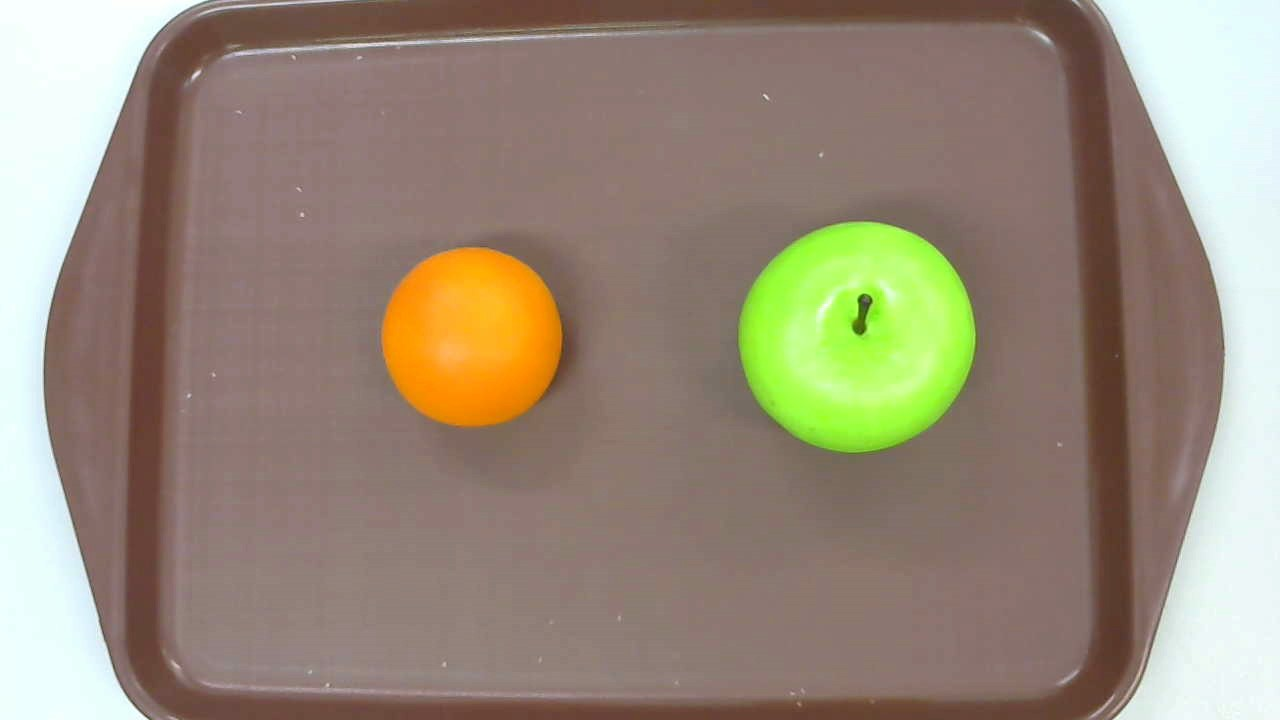bun: (382, 245, 565, 430)
green apple: (737, 221, 978, 453)
